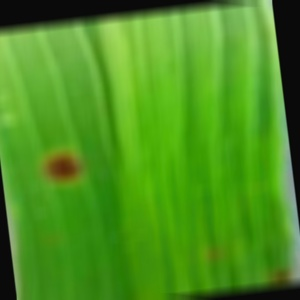Bacterial_Leaf_Blight: (31, 140, 95, 193), (270, 263, 295, 288), (202, 245, 227, 264)
